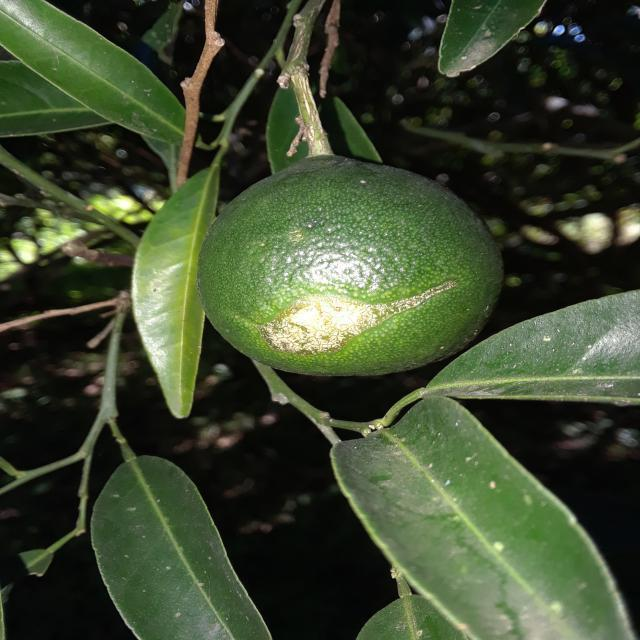thrips: (195, 152, 504, 377)
